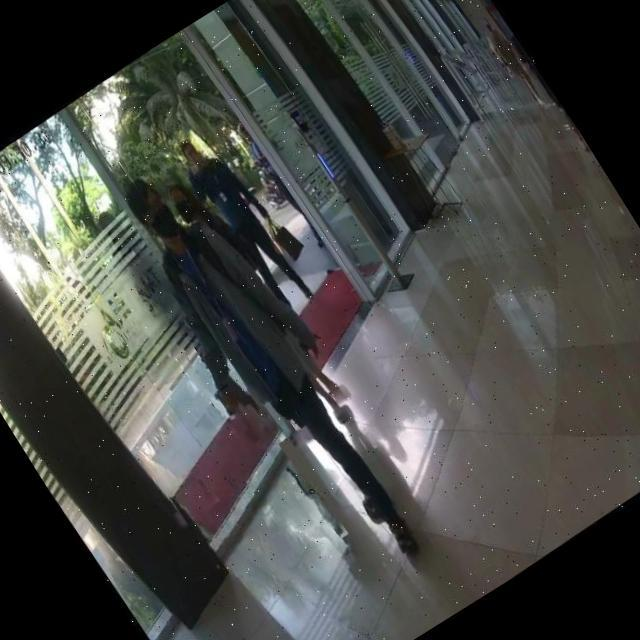person: (116, 152, 430, 581), (171, 125, 320, 324)
